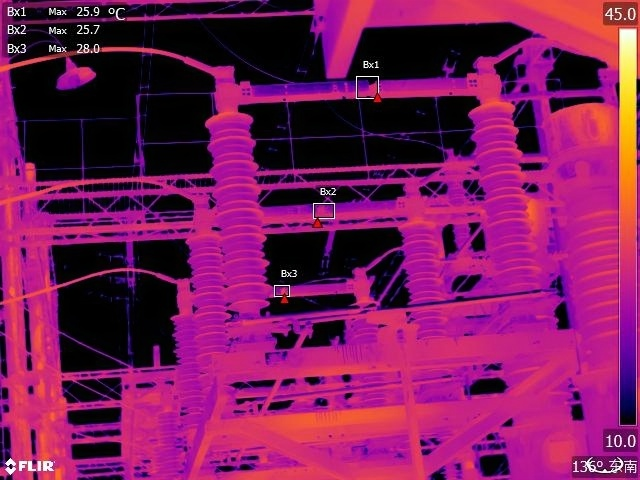current transformer: (540, 94, 640, 480)
post insulator: (202, 104, 282, 311), (467, 101, 546, 286), (183, 226, 229, 361), (398, 223, 450, 336), (170, 315, 206, 409), (354, 311, 387, 407)
switch: (200, 43, 508, 117), (184, 184, 430, 235), (169, 263, 376, 317)
